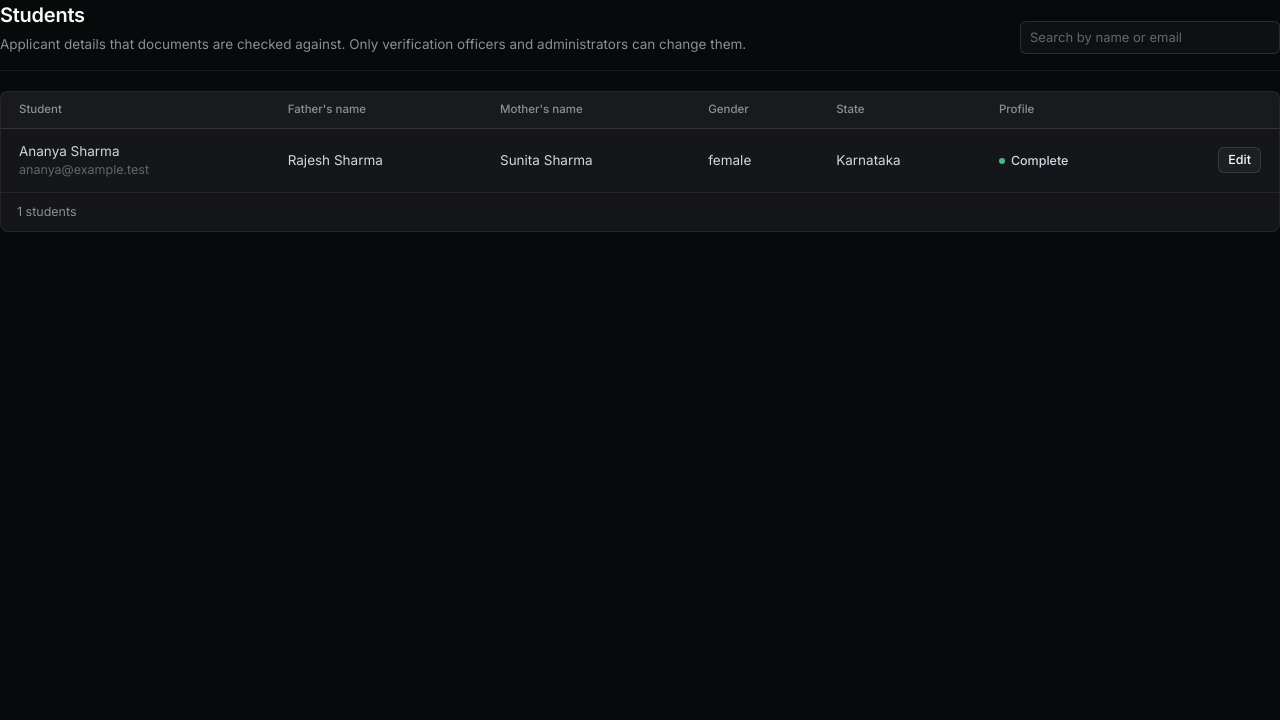
Test: students: correcting details › sends only the changed details with the reason
The image size is (1280, 720).
Later steps or results of the test are not shown.
Check: the text "Rajesh Sharma" is shown, box [270, 128, 482, 192]
Click the button with aria-label "Edit details for Ananya Sharma" at (1240, 160), box [1218, 147, 1261, 173]
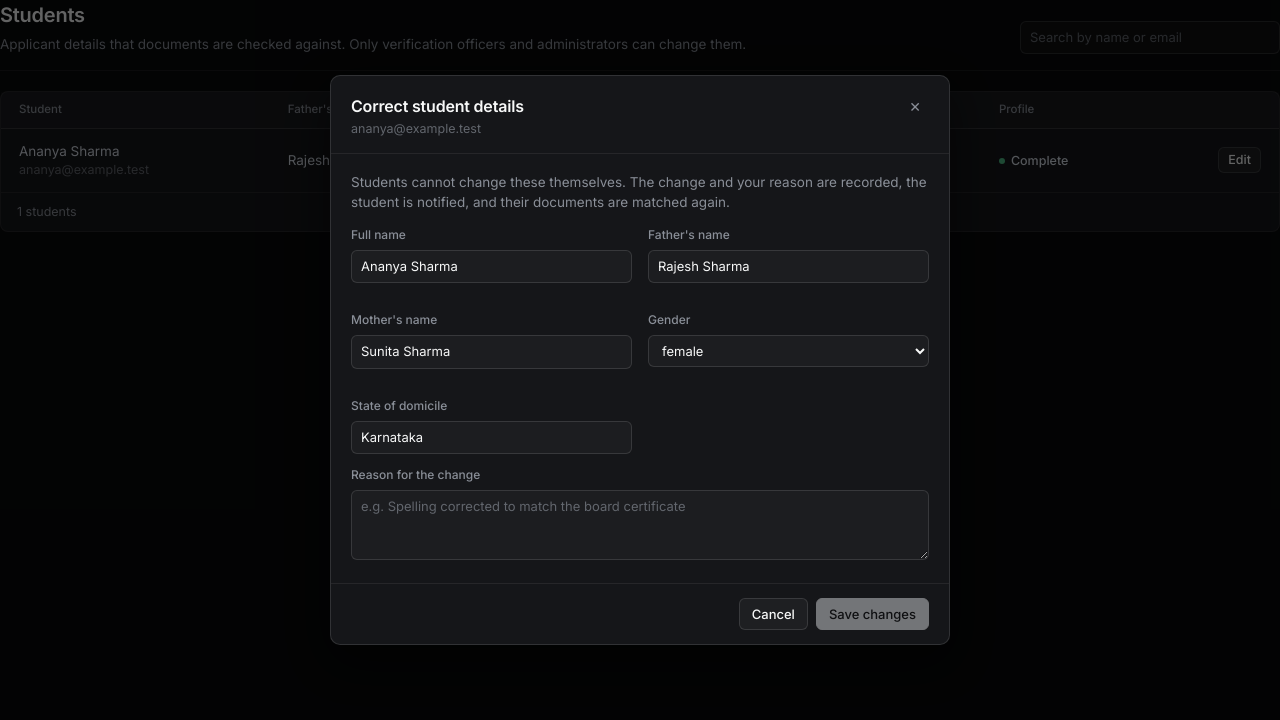
Replace the text in the field labelled "Father's name" with "Rajesh K Sharma" at (788, 266), box [648, 250, 929, 283]
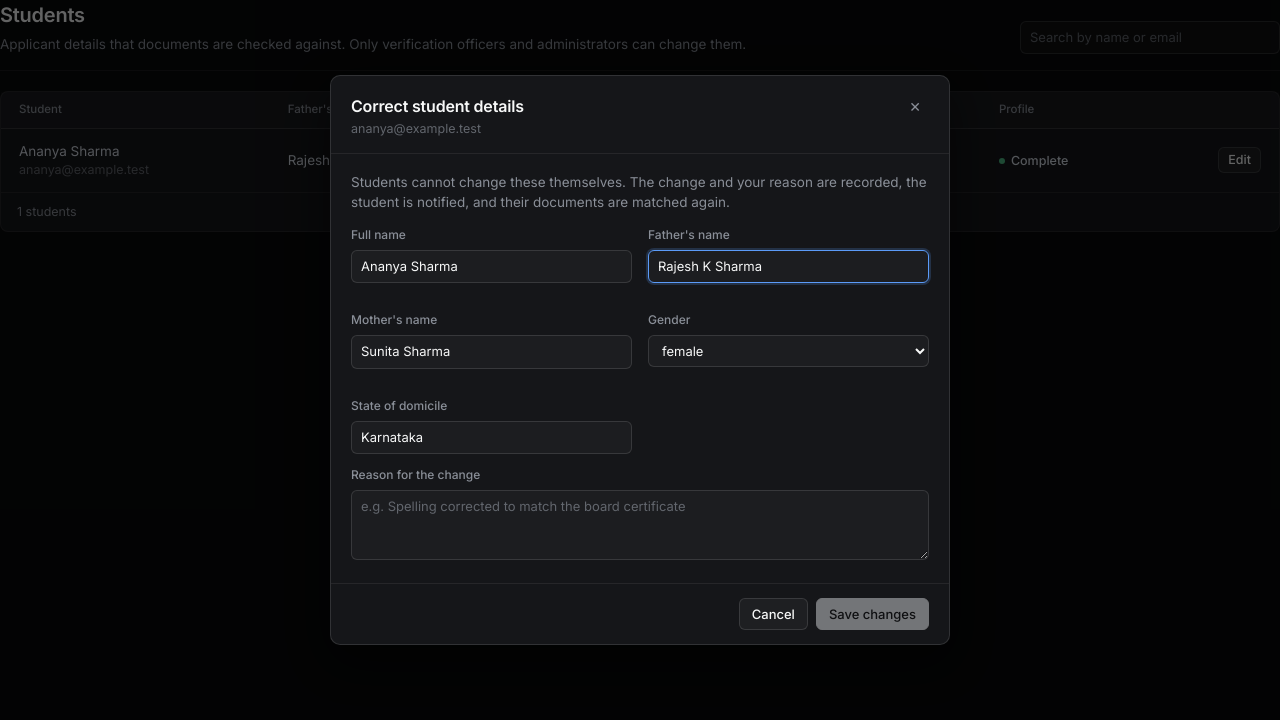
Check: the button "Save changes" is disabled, box [816, 598, 929, 630]
